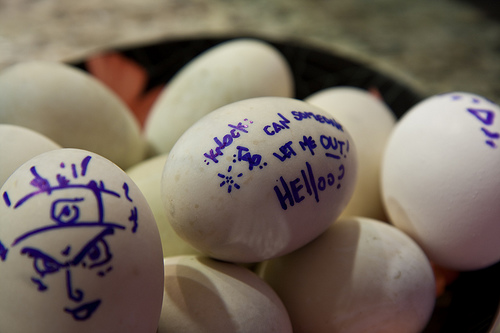egg: (0, 38, 499, 332), (159, 98, 363, 261), (0, 146, 165, 332)
